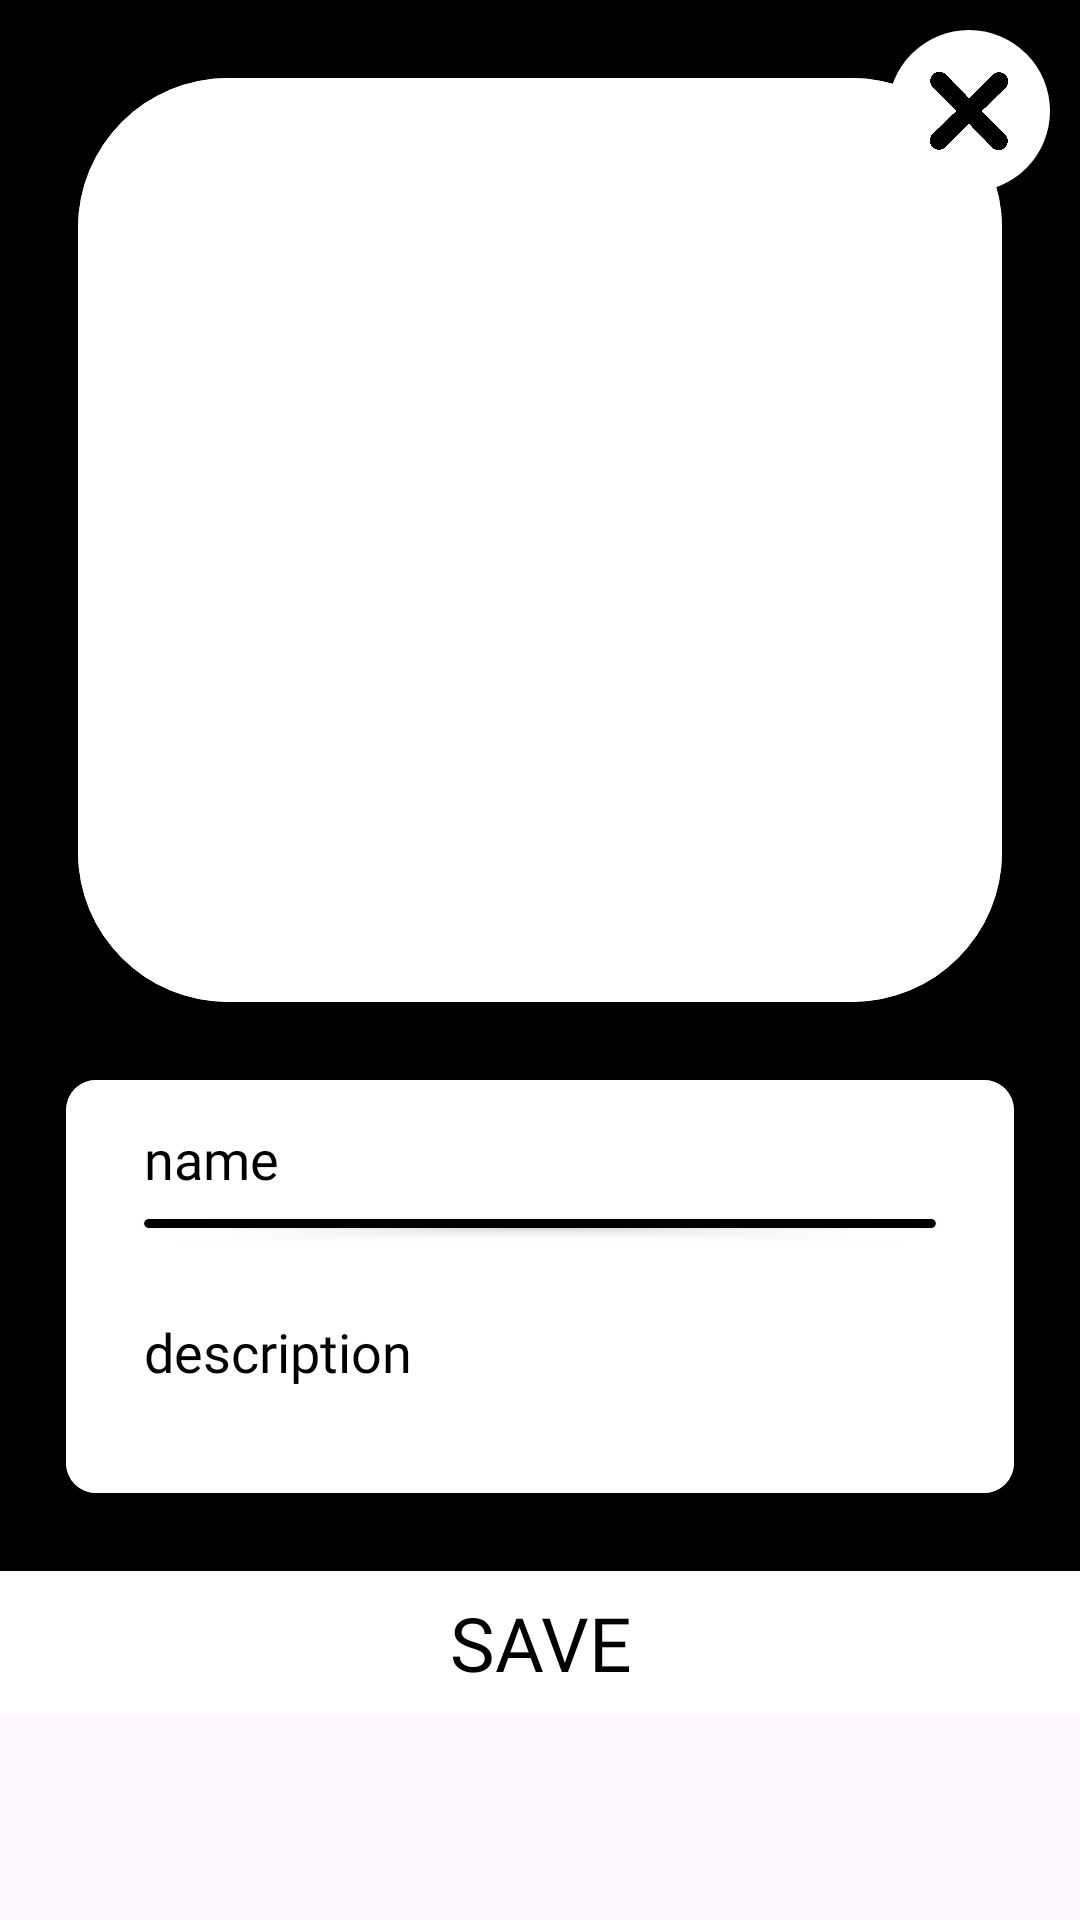

Icons on this 1080 x 1920 Android screen, each with the point to tap as [x,y]:
decline: [969,111]
